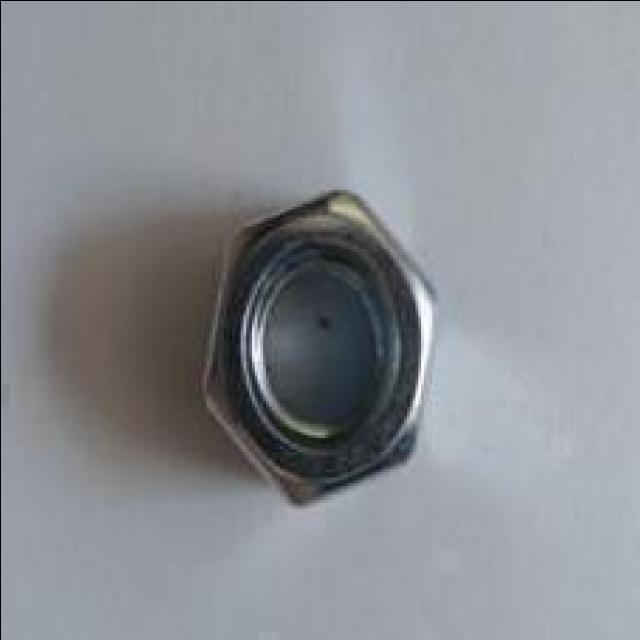ecrouOK: (198, 184, 440, 510)
